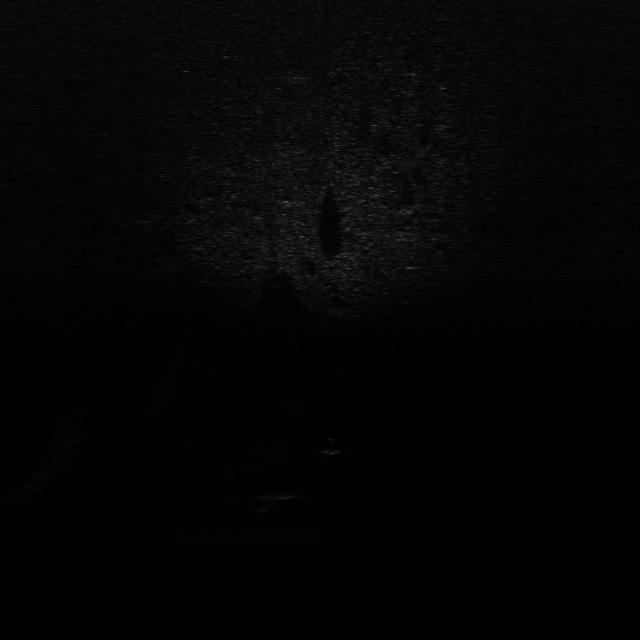ball: (319, 435, 347, 456)
square cage: (252, 485, 302, 509)
